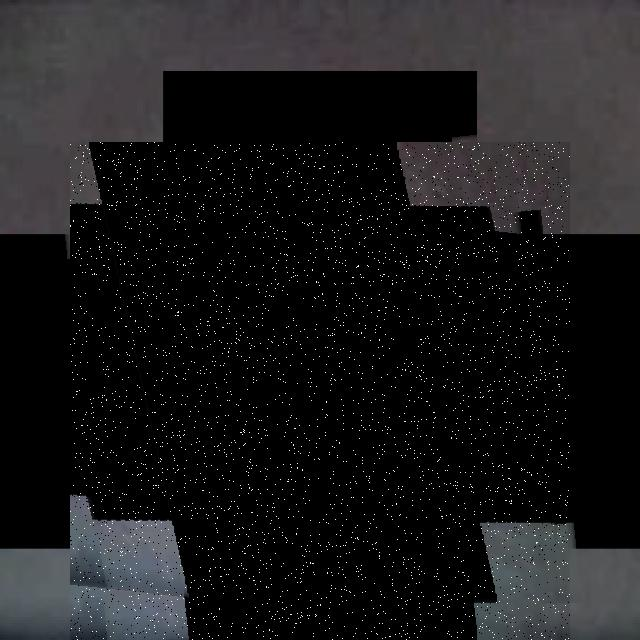dua puluh ribu rupiah: (70, 142, 570, 640)
